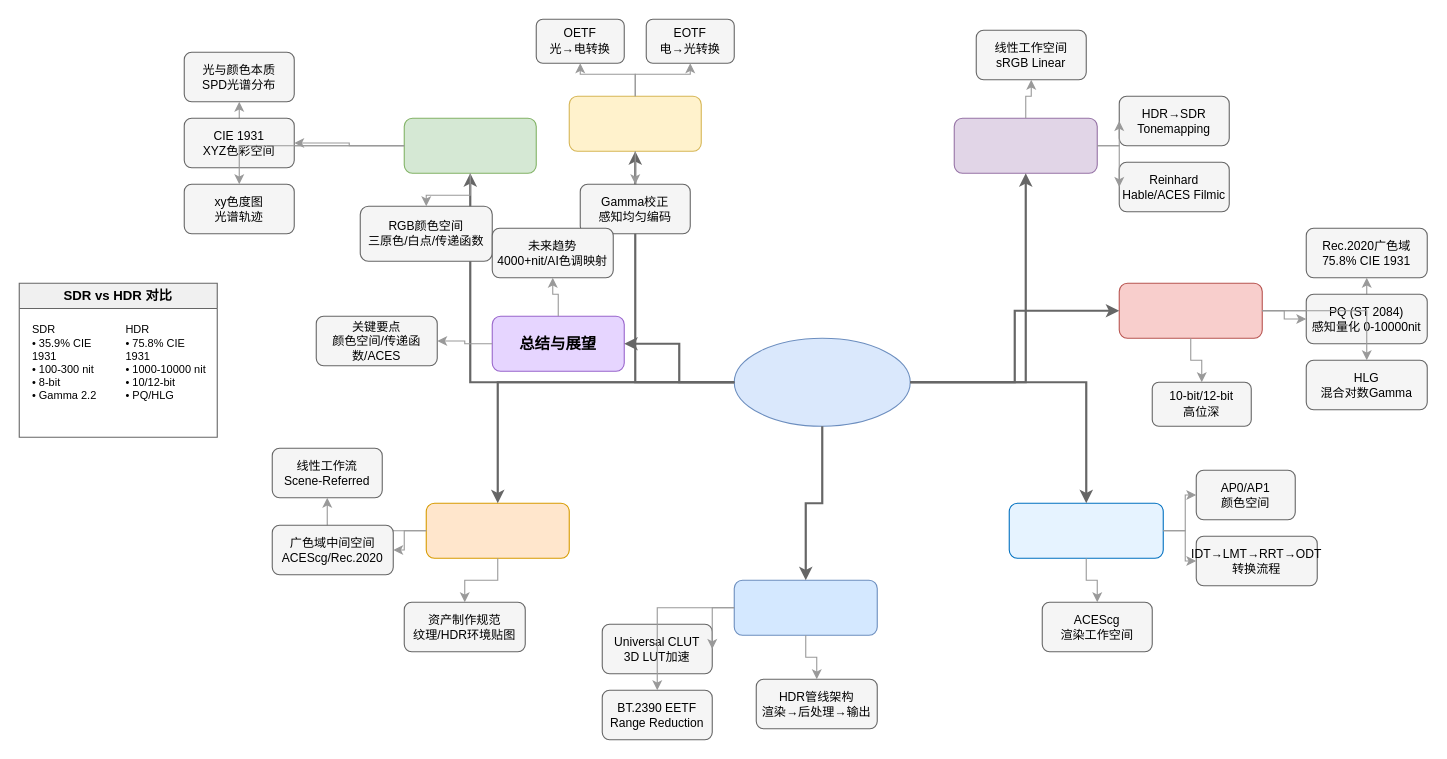
Some shapes in this 1447 by 759 pixel diagram are drawn without their labels. Each missing label, with the centre of its shape:
ACES色彩管理: pixel 1085 530
HDR显示技术: pixel 1190 310
HDR色彩管理 深度解析: pixel 821 381
SDR渲染管线: pixel 1025 145
传递函数: pixel 634 123
基础概念: pixel 469 145
游戏HDR实现: pixel 805 607
色彩管理管线: pixel 497 530
